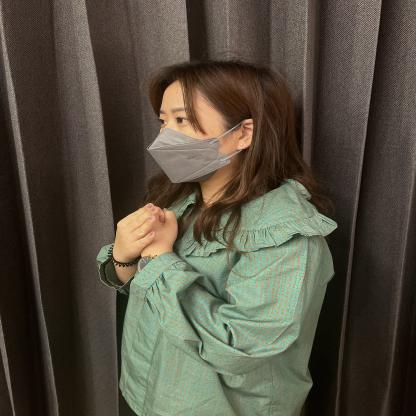Grieve: (49, 169, 268, 309)
